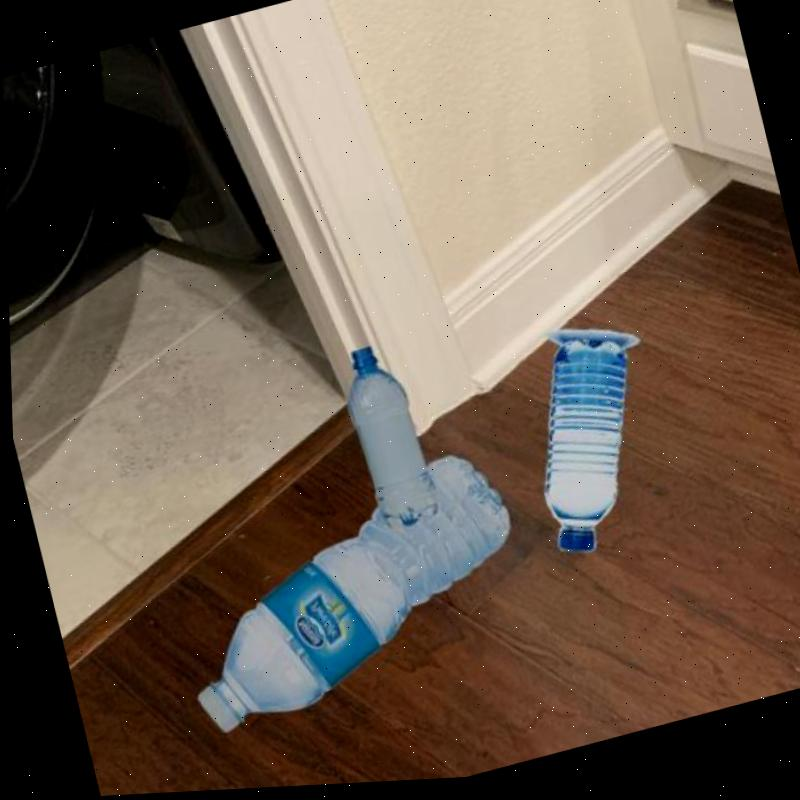botella: (148, 443, 541, 742), (503, 328, 669, 569), (332, 342, 432, 536)
